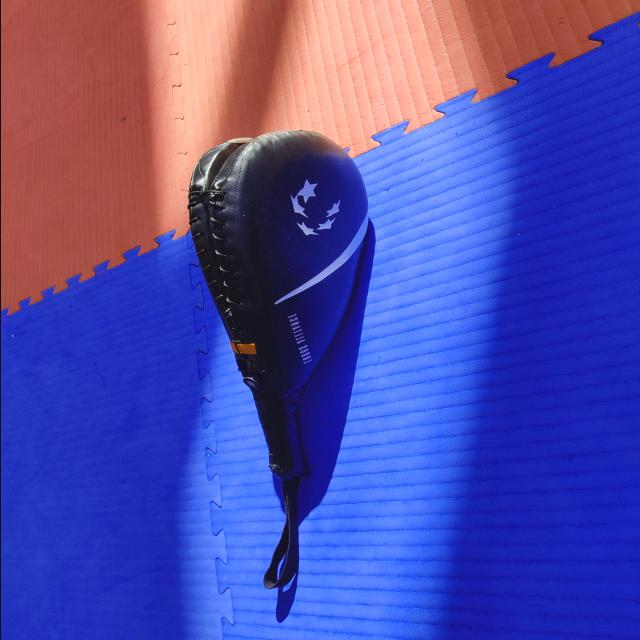paddle: (182, 128, 371, 480)
